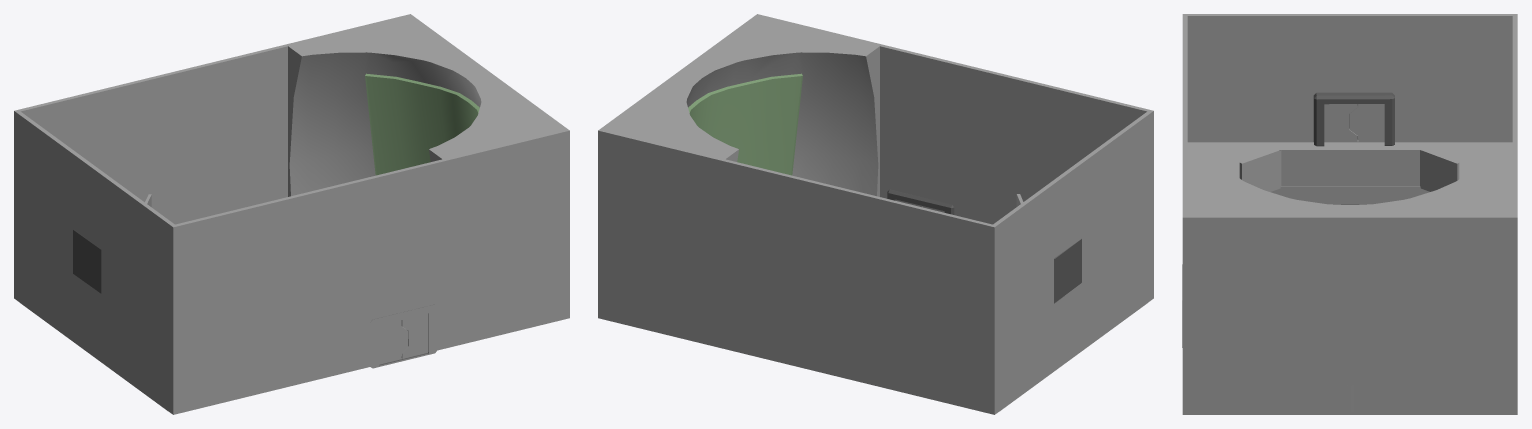
File: Laboratory Scene.fbx
The picture shows the model from 3 angles, left to right: view 1: azimuth 30°, elevation 25°; view 2: azimuth 150°, elevation 25°; view 3: azimuth 270°, elevation 25°; orthographic projection. The views are drawn at different scales.
Visible parts, largest first — view 1: pPlane6, pPlane7, pasted__pasted__pasted__pCube11, group23_pasted__group21_pasted__pasted__group17_pasted__past; view 2: pPlane6, pPlane7, group23_pasted__group21_pasted__pasted__group17_pasted__past, pasted__pasted__pasted__pCube11; view 3: pPlane6, pCube8, group23_pasted__group21_pasted__pasted__group17_pasted__past.
Part boxes in pixels (x1,y1,x2,y2): pPlane6: (14,14,569,414); pPlane7: (365,73,479,175); pasted__pasted__pasted__pCube11: (370,304,437,368); group23_pasted__group21_pasted__pasted__group17_pasted__past: (73,229,101,293); pPlane6: (598,14,1153,414); pPlane7: (688,73,802,175); group23_pasted__group21_pasted__pasted__group17_pasted__past: (1054,239,1081,303); pasted__pasted__pasted__pCube11: (887,189,954,214); pPlane6: (1182,14,1517,414); pCube8: (1187,142,1512,191); group23_pasted__group21_pasted__pasted__group17_pasted__past: (1313,92,1394,146).
Size of the model in its own units: 32.44 by 14.79 by 22.52.
